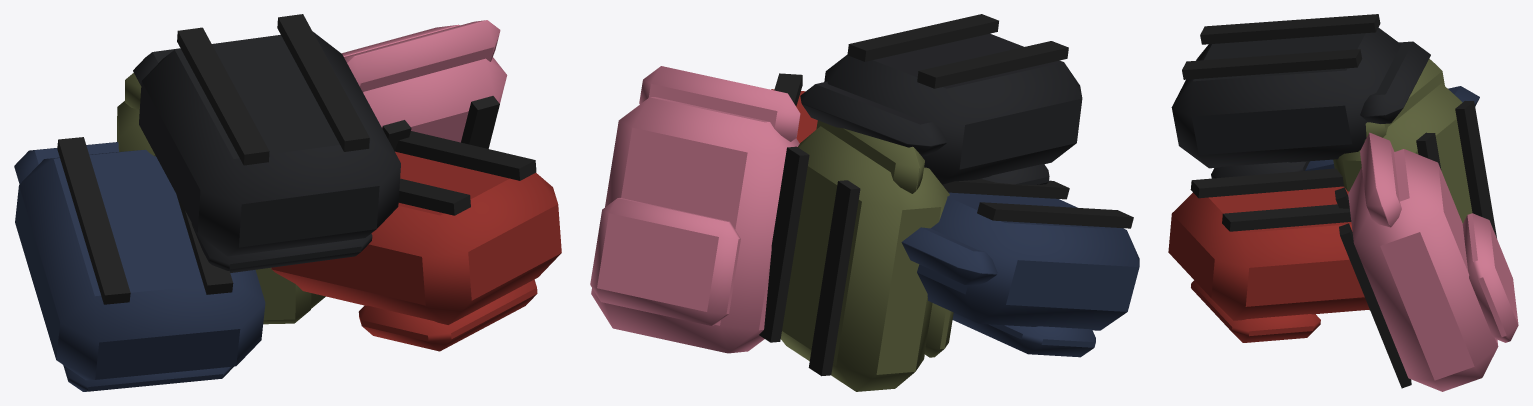
File: bag_pile.glb
The picture shows the model from 3 angles, left to right: view 1: azimuth 30°, elevation 25°; view 2: azimuth 150°, elevation 25°; view 3: azimuth 270°, elevation 25°; orthographic projection. The views are drawn at different scales.
Parts seen in each view (by area): view 1: Bags; view 2: Bags; view 3: Bags.
Boxes of the visible parts, bbox=[...] form: Bags: bbox=[14, 14, 561, 391]; Bags: bbox=[590, 14, 1139, 391]; Bags: bbox=[1168, 14, 1518, 391].
Bounding box in the file's own units: 0.8827 × 0.5418 × 0.6582.
